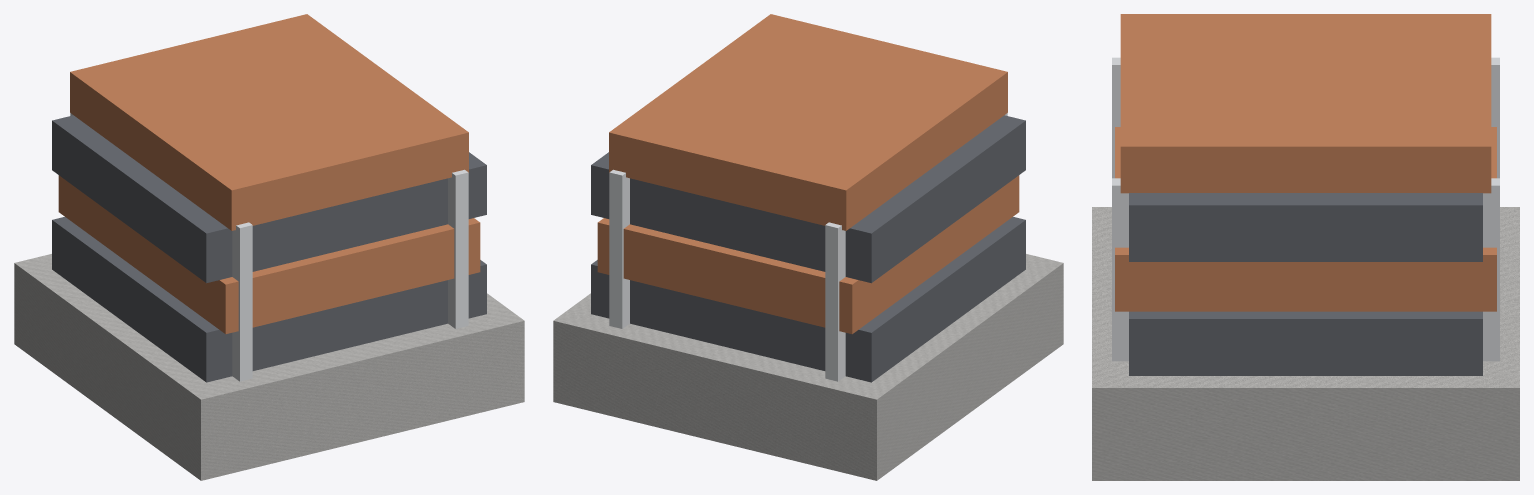
Rendered from shipyard-and-dry-dock-shipyard-and-dry-dock-keel-block-706cf9a4__37929.glb.
3 renders of one model, left to right at view 1: azimuth 30°, elevation 25°; view 2: azimuth 150°, elevation 25°; view 3: azimuth 270°, elevation 25°, orthographic. The views are drawn at different scales.
Visible parts, largest first — view 1: shipyard-and-dry-dock-keel-block; view 2: shipyard-and-dry-dock-keel-block; view 3: shipyard-and-dry-dock-keel-block.
Boxes of the visible parts, x1,y1,x2,y2 form: shipyard-and-dry-dock-keel-block: [14, 14, 524, 480]; shipyard-and-dry-dock-keel-block: [553, 14, 1063, 480]; shipyard-and-dry-dock-keel-block: [1092, 14, 1519, 480].
Size of the model in its own units: 1.5 by 1.2 by 1.5.
4 materials, 1 textured.
